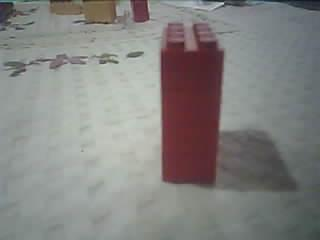lego: (158, 18, 225, 187), (83, 1, 118, 24), (49, 1, 84, 14), (129, 1, 149, 22)
